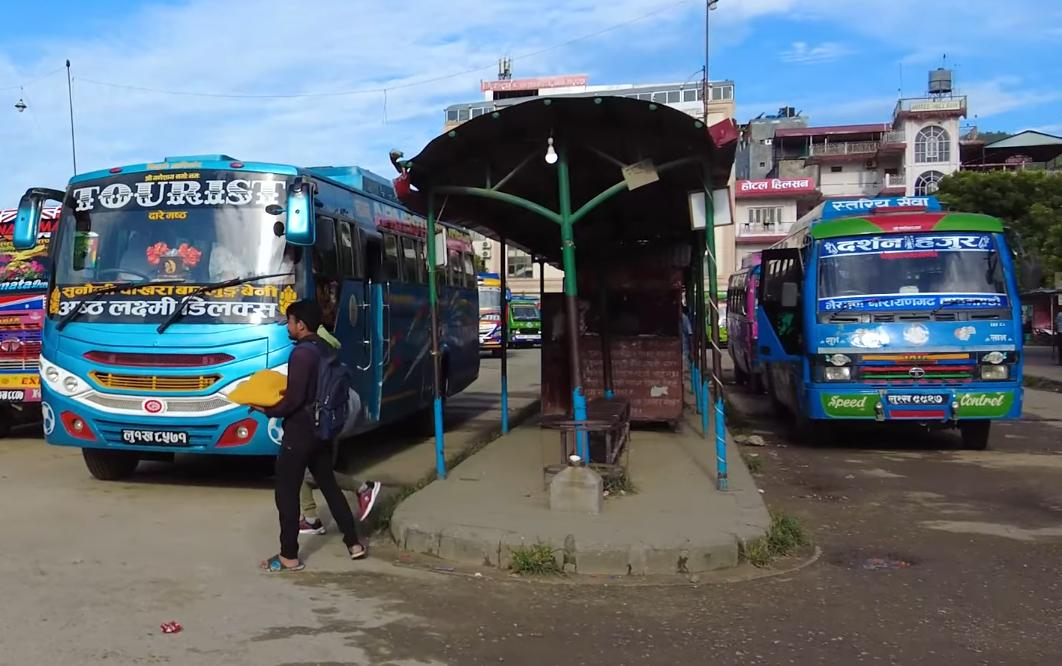bus: (15, 157, 489, 488), (742, 183, 1033, 454)
